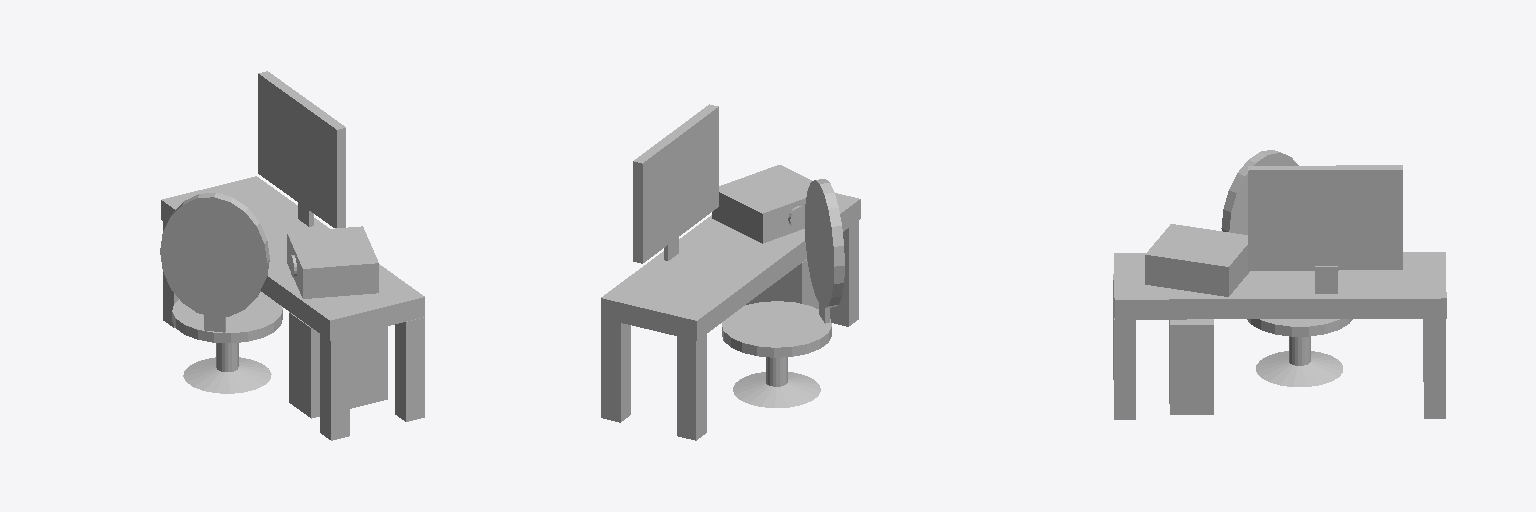
The model's file is ComDesk1.obj.
3 renders of one model, left to right at view 1: azimuth 30°, elevation 25°; view 2: azimuth 150°, elevation 25°; view 3: azimuth 270°, elevation 25°, orthographic.
Visible parts, largest first — view 1: OBJs:pCylinder2; view 2: OBJs:pCylinder2; view 3: OBJs:pCylinder2.
Boxes of the visible parts, x1,y1,x2,y2 form: OBJs:pCylinder2: [160, 71, 424, 440]; OBJs:pCylinder2: [601, 104, 860, 440]; OBJs:pCylinder2: [1113, 150, 1446, 419].
Bounding box in the file's own units: 1.8 × 2.43 × 3.01.